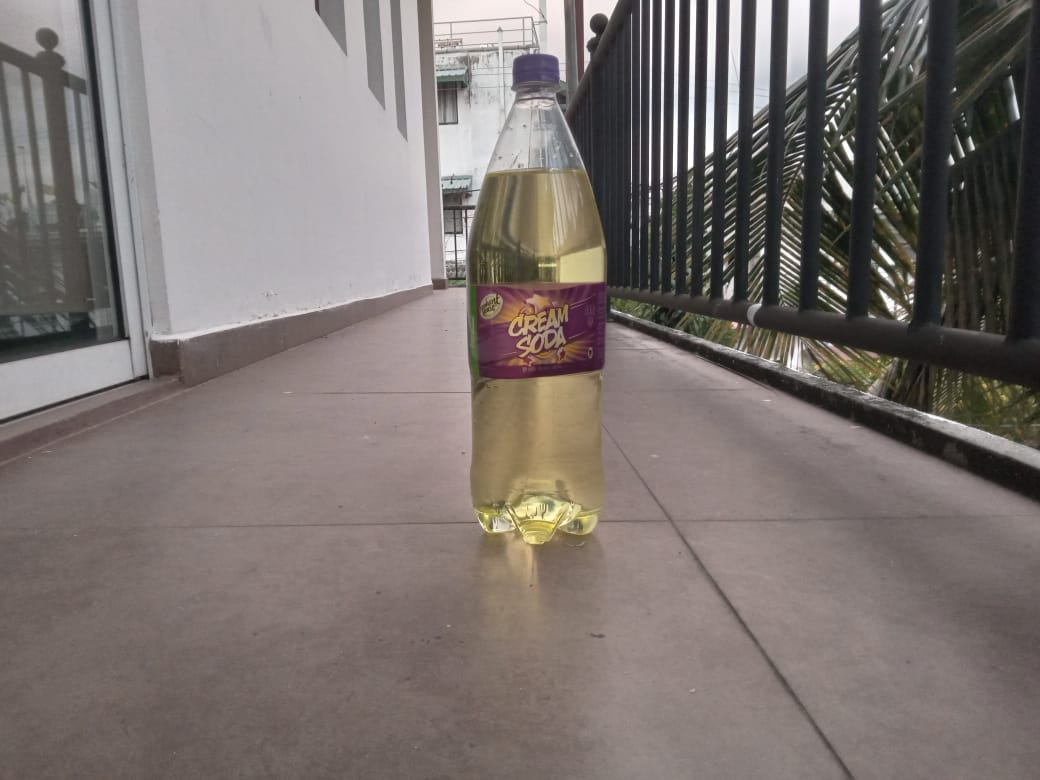L: (457, 53, 625, 554)
